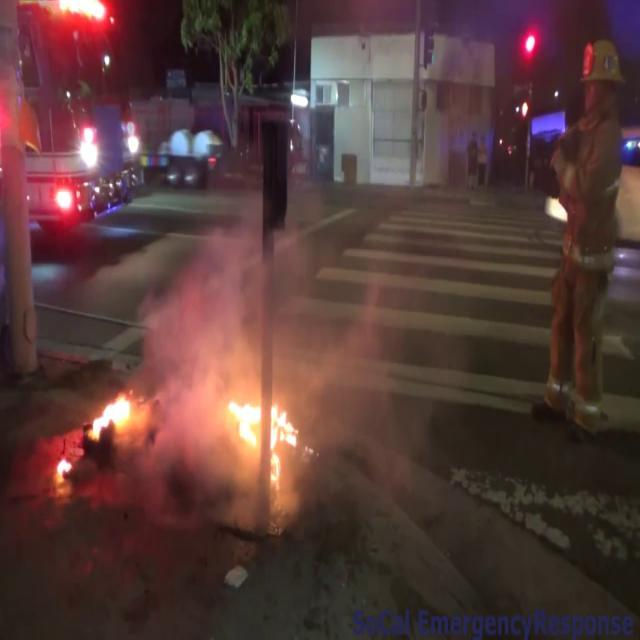Fire: (220, 378, 302, 478), (83, 384, 150, 444)
Smoke: (147, 184, 336, 416)
